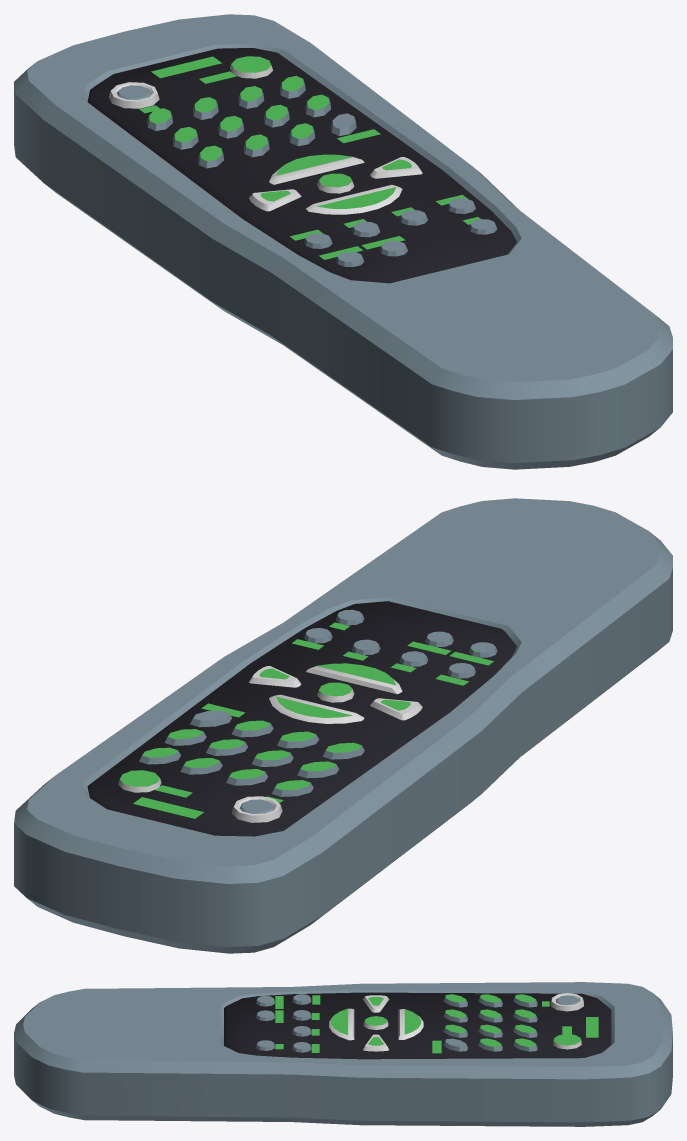
The model's file is KJKKY215.FBX.
3 views of the same model, one above another, from view 1: azimuth 30°, elevation 25°; view 2: azimuth 150°, elevation 25°; view 3: azimuth 270°, elevation 25° (orthographic). The views are drawn at different scales.
Parts seen in each view (by area): view 1: KJKKY215; view 2: KJKKY215; view 3: KJKKY215.
Part boxes in pixels (box(x1,y1,x2,y2)): KJKKY215: box(14, 14, 672, 469); KJKKY215: box(14, 498, 672, 953); KJKKY215: box(14, 982, 672, 1126).
Bounding box in the file's own units: 5 × 15 × 1.61.
